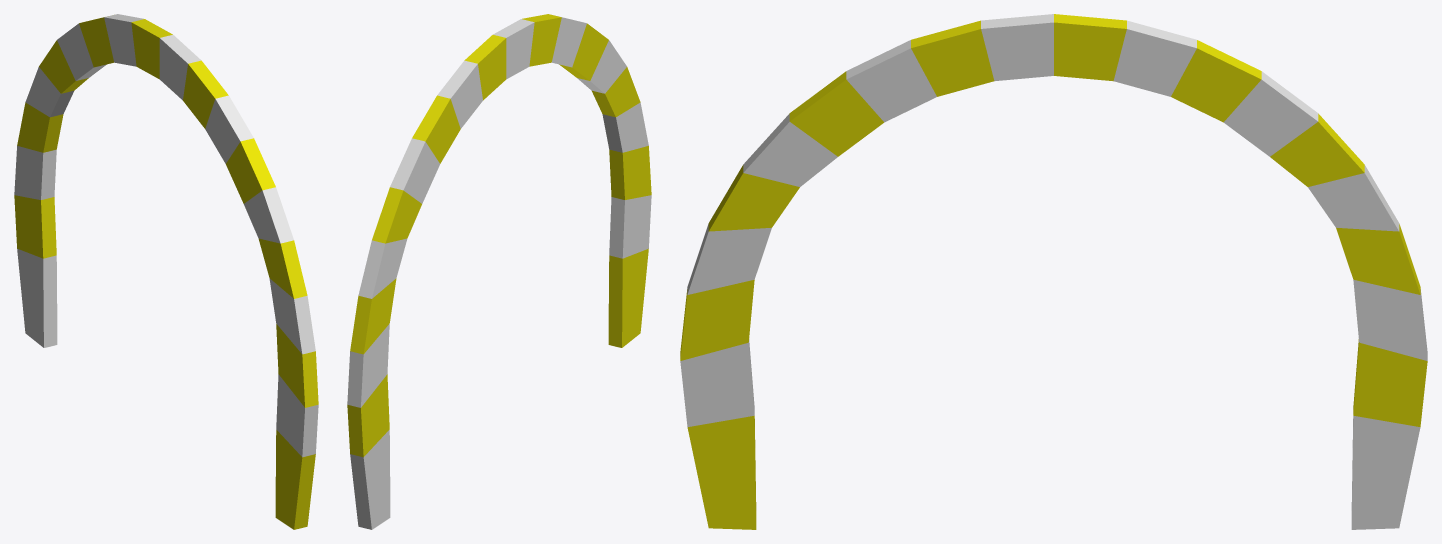
The model's file is Speed Boost Ring.fbx.
3 renders of one model, left to right at view 1: azimuth 30°, elevation 25°; view 2: azimuth 150°, elevation 25°; view 3: azimuth 270°, elevation 25°, orthographic. The views are drawn at different scales.
Parts seen in each view (by area): view 1: Speed Boost Ring.001; view 2: Speed Boost Ring.001; view 3: Speed Boost Ring.001.
Boxes of the visible parts, x1,y1,x2,y2 form: Speed Boost Ring.001: [14, 14, 318, 529]; Speed Boost Ring.001: [347, 14, 651, 529]; Speed Boost Ring.001: [680, 14, 1427, 529].
Bounding box in the file's own units: 26.87 × 749 × 1000.
